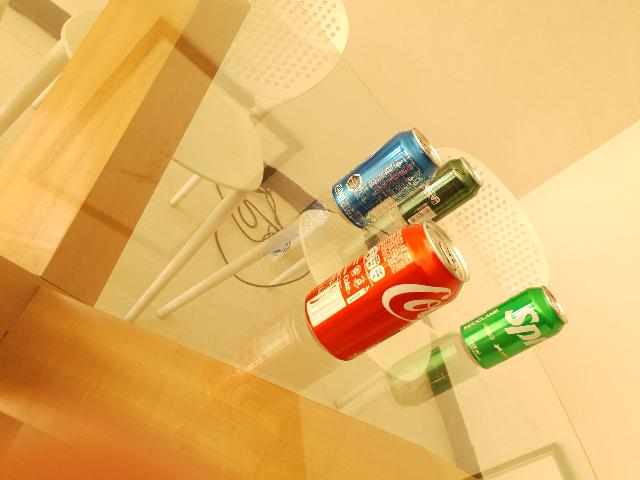coke: (302, 218, 470, 362)
pepsi: (327, 130, 441, 232)
schweppes: (398, 158, 484, 226)
sprite: (461, 285, 569, 369)
